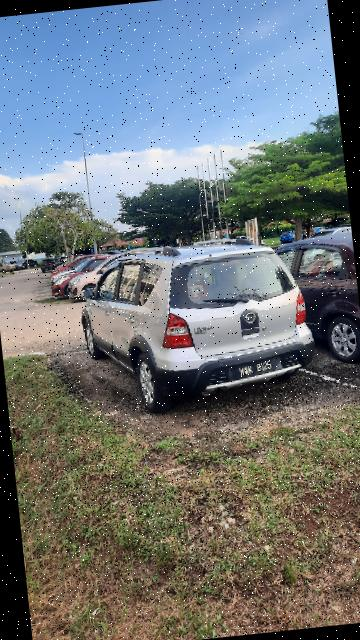License_Plate: (221, 357, 291, 383)
car: (75, 235, 324, 408), (269, 231, 360, 374)
